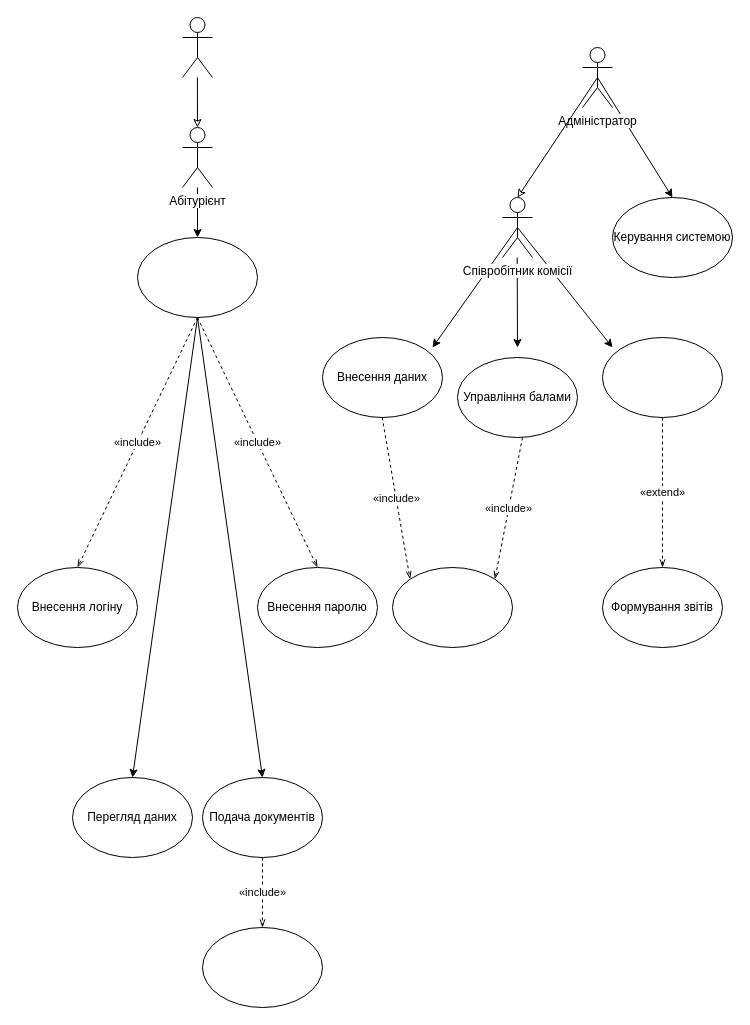
Some shapes in this 750 by 1025 pixel diagram are drawn without their labels. Here are the shapes that lost their labels. From the top down, the centre of each, then its label:
At point (197, 47): "Користувач системи".
At point (197, 277): "Реєстрація в систему".
At point (662, 377): "Розподіл за спеціальностями".
At point (452, 607): "Перевірка документів".
At point (262, 967): "Заповнення електронної форми".
